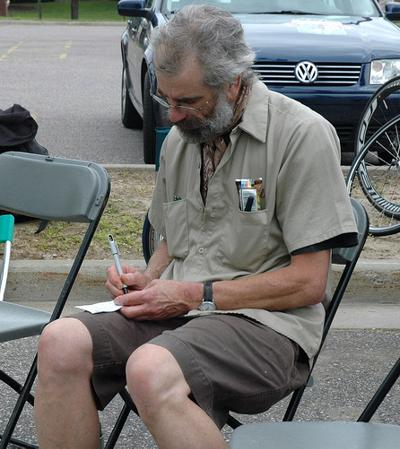person: (34, 6, 350, 449)
